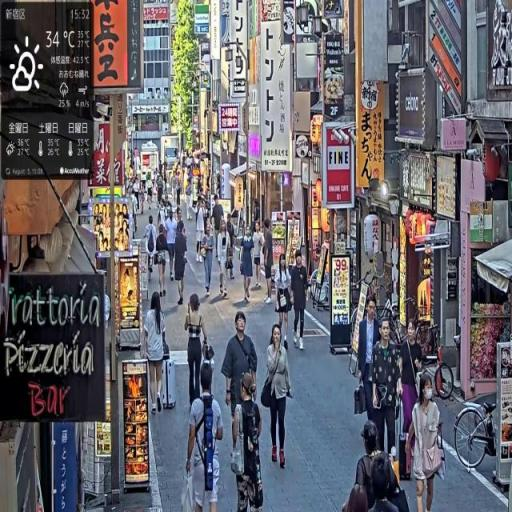person: (186, 362, 225, 512), (222, 311, 259, 464), (408, 374, 446, 512), (231, 372, 264, 512), (264, 323, 295, 471), (372, 319, 403, 463), (144, 293, 172, 415), (185, 295, 214, 410), (355, 296, 381, 421), (274, 249, 295, 354), (292, 250, 311, 350), (174, 219, 190, 308), (199, 223, 217, 301), (241, 228, 256, 307), (217, 222, 232, 299), (262, 221, 275, 307), (156, 225, 170, 300), (144, 215, 159, 282), (195, 195, 209, 266), (165, 208, 179, 277), (253, 222, 265, 295)
